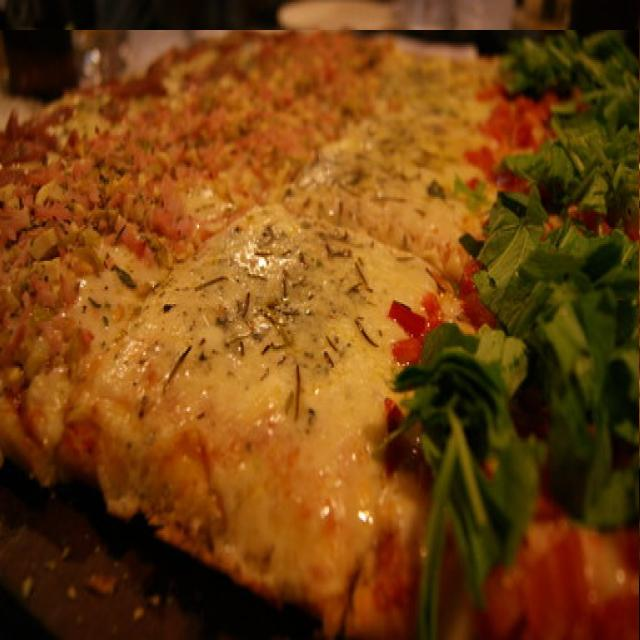basil: (0, 217, 237, 640), (0, 118, 139, 212), (1, 27, 132, 116)
pizza: (0, 30, 639, 640)
